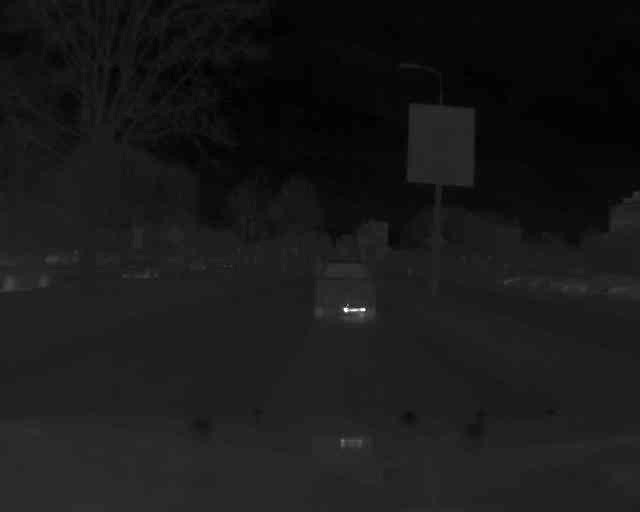car: (313, 256, 379, 318)
